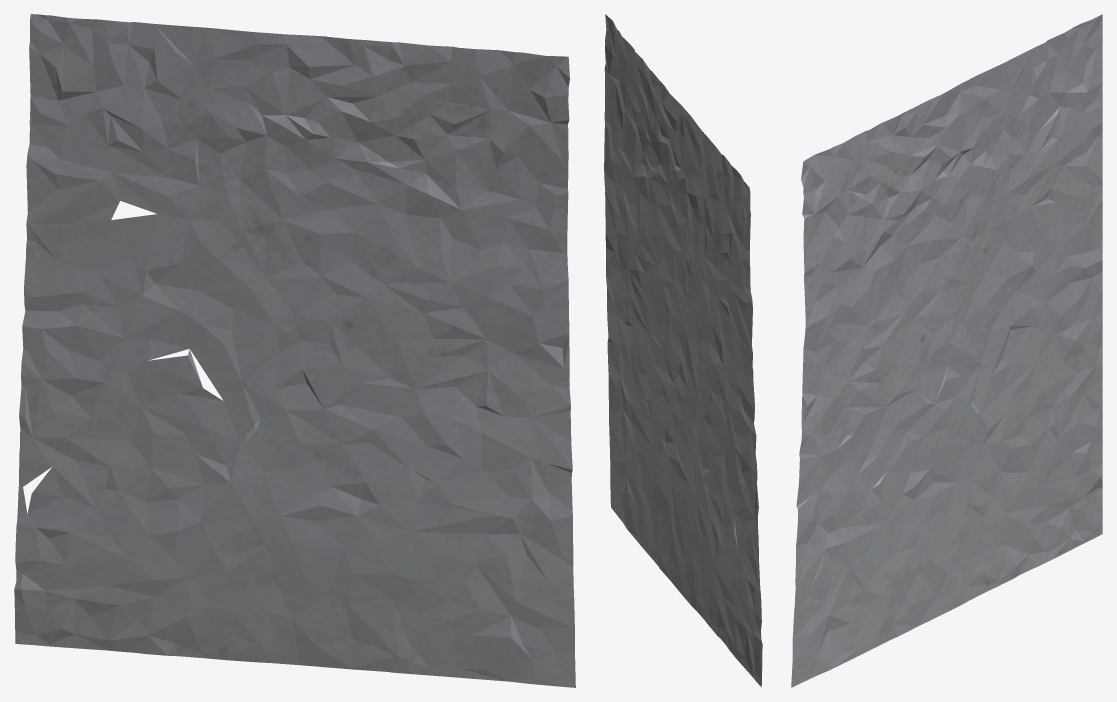
The picture shows the model from 3 angles, left to right: view 1: azimuth 30°, elevation 25°; view 2: azimuth 150°, elevation 25°; view 3: azimuth 270°, elevation 25°; orthographic projection. The views are drawn at different scales.
Bounding box in the file's own units: 0.5269 × 0.8374 × 0.4493.
Materials: 2 (2 with a texture image).
